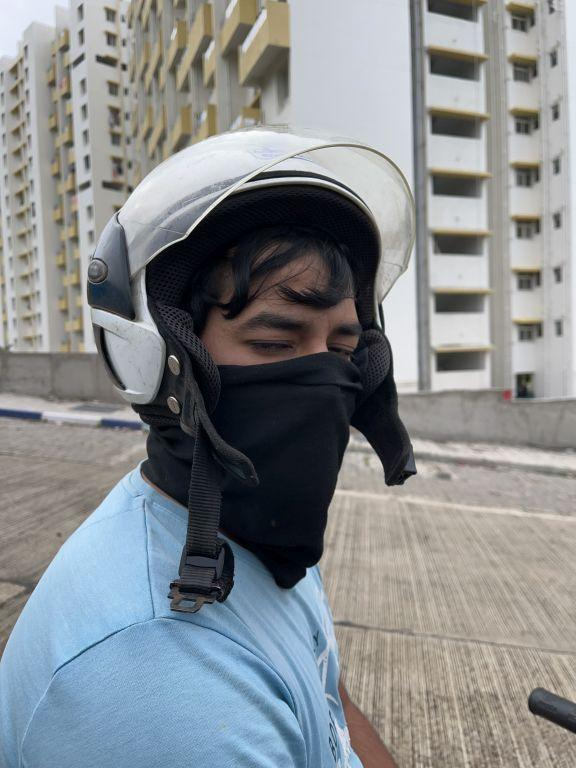helmet: (77, 115, 440, 618)
